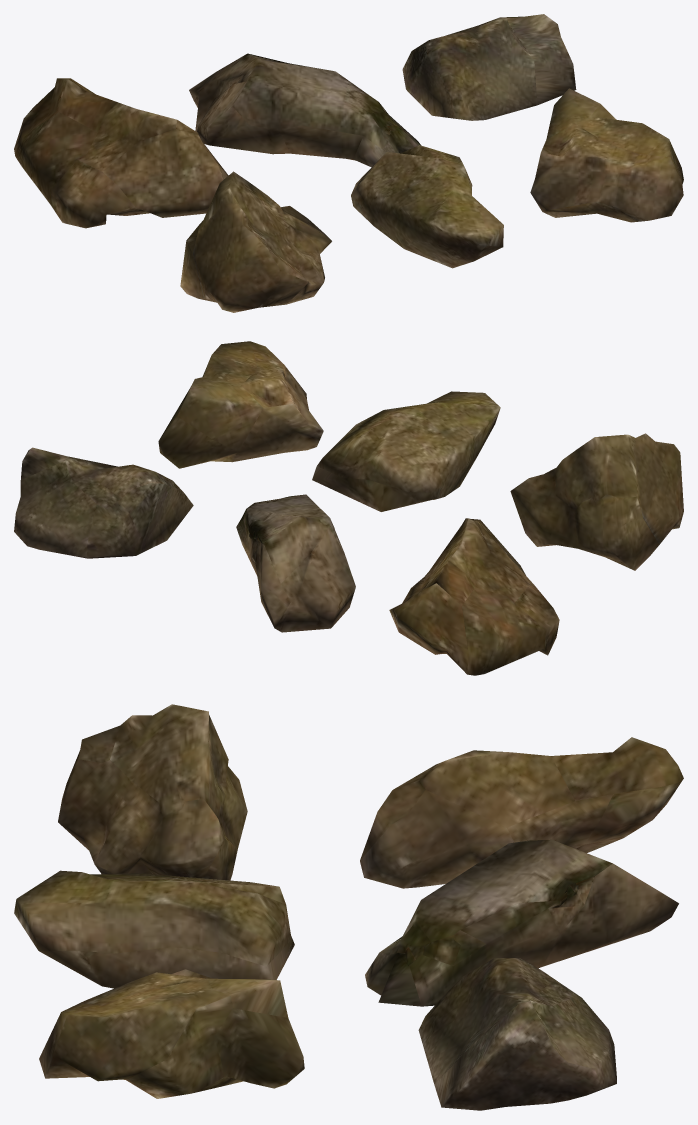
File: rock_moss_set_01.glb
3 views of the same model, one above another, from view 1: azimuth 30°, elevation 25°; view 2: azimuth 150°, elevation 25°; view 3: azimuth 270°, elevation 25° (orthographic). The views are drawn at different scales.
Visible parts, largest first — view 1: rock_moss_set_01_rock01, rock_moss_set_01_rock02, rock_moss_set_01_rock06, rock_moss_set_01_rock04, rock_moss_set_01_rock03, rock_moss_set_01_rock05; view 2: rock_moss_set_01_rock04, rock_moss_set_01_rock01, rock_moss_set_01_rock03, rock_moss_set_01_rock05, rock_moss_set_01_rock06, rock_moss_set_01_rock02; view 3: rock_moss_set_01_rock01, rock_moss_set_01_rock02, rock_moss_set_01_rock05, rock_moss_set_01_rock04, rock_moss_set_01_rock06, rock_moss_set_01_rock03.
Part boxes in pixels (x1,y1,x2,y2): rock_moss_set_01_rock01: [14, 78, 228, 228]; rock_moss_set_01_rock02: [189, 53, 421, 167]; rock_moss_set_01_rock06: [530, 88, 683, 222]; rock_moss_set_01_rock04: [180, 171, 331, 312]; rock_moss_set_01_rock03: [402, 14, 576, 120]; rock_moss_set_01_rock05: [351, 145, 503, 268]; rock_moss_set_01_rock04: [510, 433, 683, 570]; rock_moss_set_01_rock01: [389, 518, 559, 675]; rock_moss_set_01_rock03: [14, 447, 193, 558]; rock_moss_set_01_rock05: [312, 391, 500, 511]; rock_moss_set_01_rock06: [158, 341, 323, 468]; rock_moss_set_01_rock02: [236, 494, 355, 632]; rock_moss_set_01_rock01: [360, 737, 683, 888]; rock_moss_set_01_rock02: [365, 839, 678, 1006]; rock_moss_set_01_rock05: [14, 870, 294, 988]; rock_moss_set_01_rock04: [58, 704, 247, 880]; rock_moss_set_01_rock06: [39, 969, 304, 1098]; rock_moss_set_01_rock03: [418, 958, 616, 1110].
Size of the model in its own units: 7.98 by 1.74 by 6.9.
Materials: 1 (1 with a texture image).
